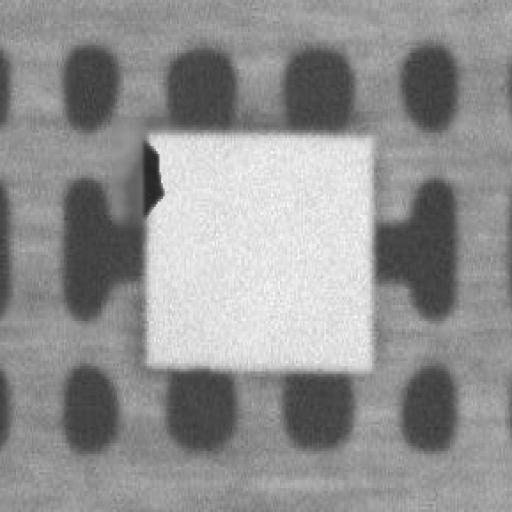DIE_BROKEN: (136, 125, 165, 220)
